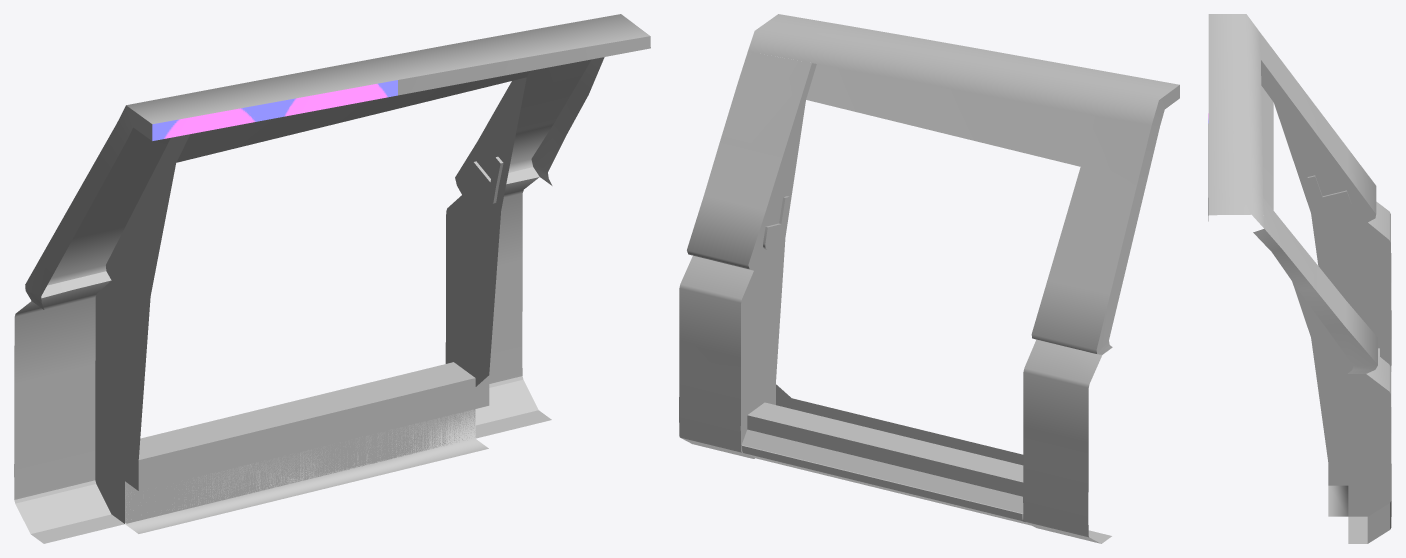
The model's file is ShuttleDoor_Frame.FBX.
3 renders of one model, left to right at view 1: azimuth 30°, elevation 25°; view 2: azimuth 150°, elevation 25°; view 3: azimuth 270°, elevation 25°, orthographic. The views are drawn at different scales.
Parts seen in each view (by area): view 1: ShuttleDoor_Frame; view 2: ShuttleDoor_Frame; view 3: ShuttleDoor_Frame.
Part boxes in pixels (x1=…): ShuttleDoor_Frame: x1=14, y1=14, x2=650, y2=543; ShuttleDoor_Frame: x1=679, y1=14, x2=1179, y2=543; ShuttleDoor_Frame: x1=1208, y1=14, x2=1391, y2=543.
Bounding box in the file's own units: 3.24 × 2.94 × 1.38.
